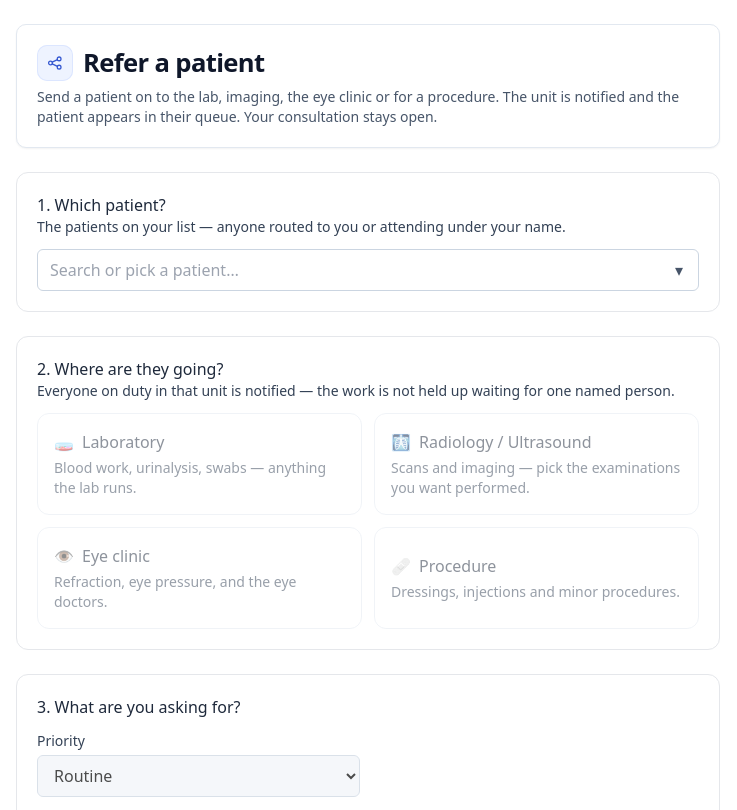
Test: referring a patient for a scan › offers the configured examinations once that destination is chosen
Click the dropdown with placeholder "Search or pick a patient…". click: click(368, 270)
box: [37,249,699,291]
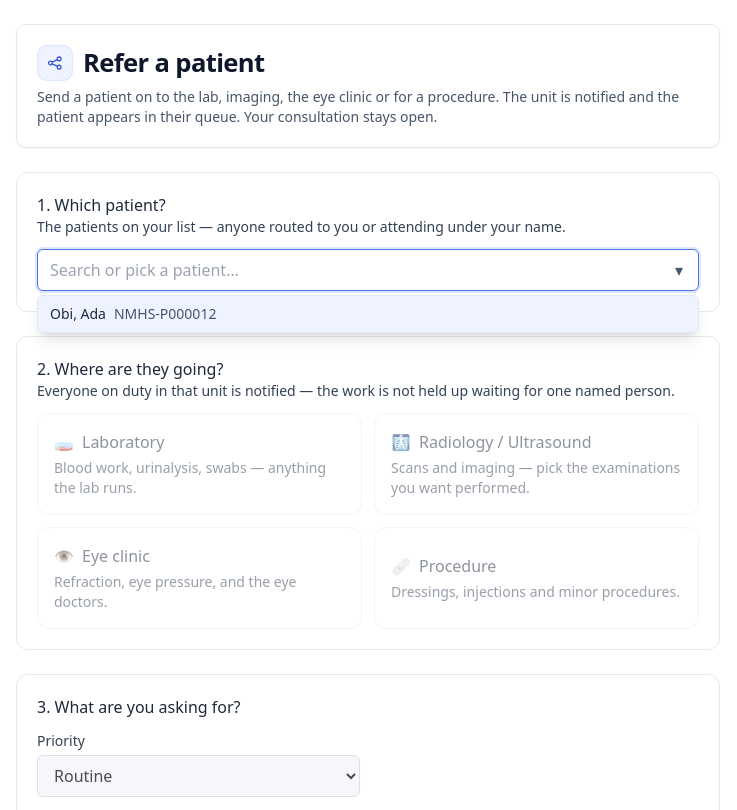
Click the text "Obi, Ada". click: click(78, 314)
box: [50,304,106,323]
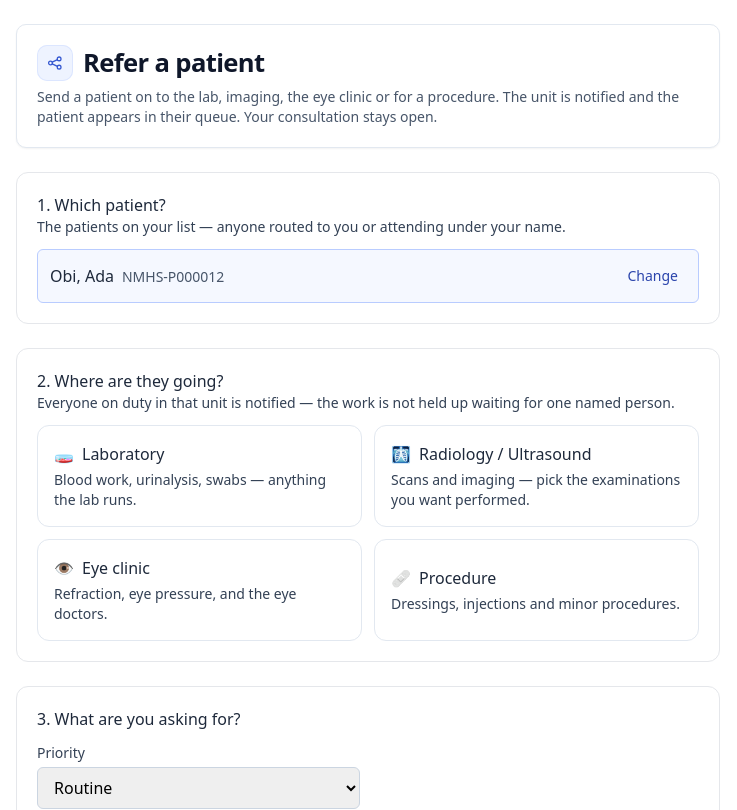
Click the text "Radiology / Ultrasound". click: click(491, 454)
box: [391,443,592,465]
(page scrolled)
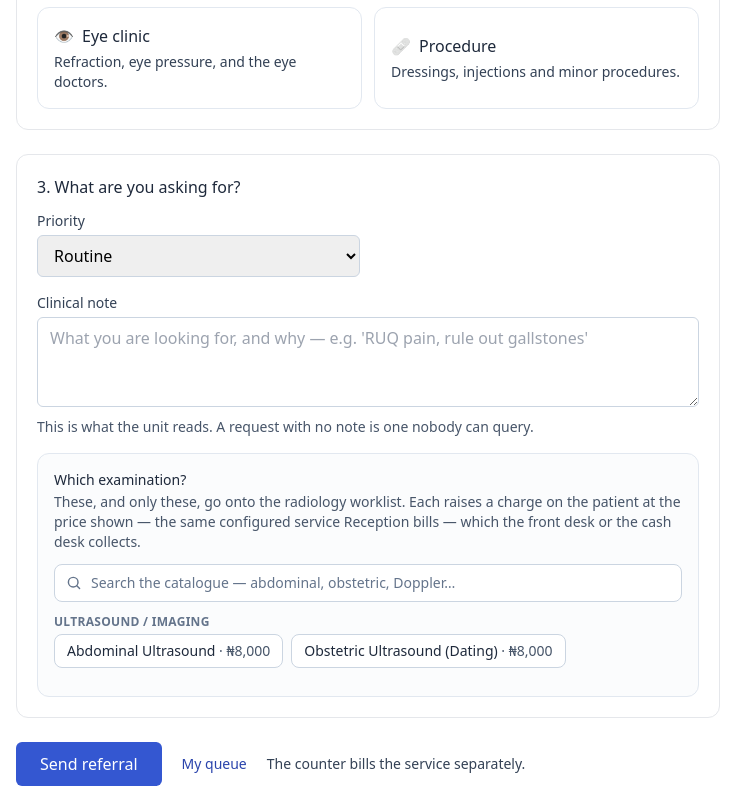
Check: the button "Abdominal Ultrasound · ₦8,000" is shown, box [54,634,283,668]
Check: the button "Obstetric Ultrasound (Dating) · ₦8,000" is shown, box [291,634,566,668]
